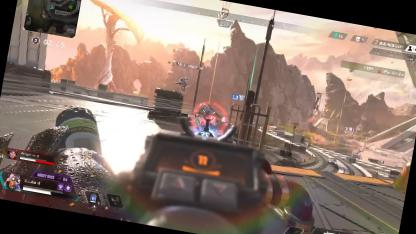Target: (175, 75, 190, 93)
